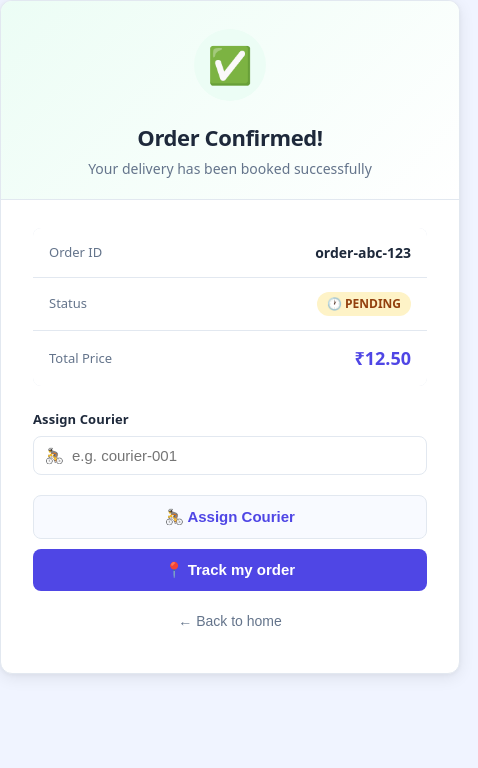
it: OrderConfirmation › assigns courier and shows success message
Step 1. Type "courier-001" into the field named "Courier ID" → point(230, 455), box [33, 436, 427, 474]
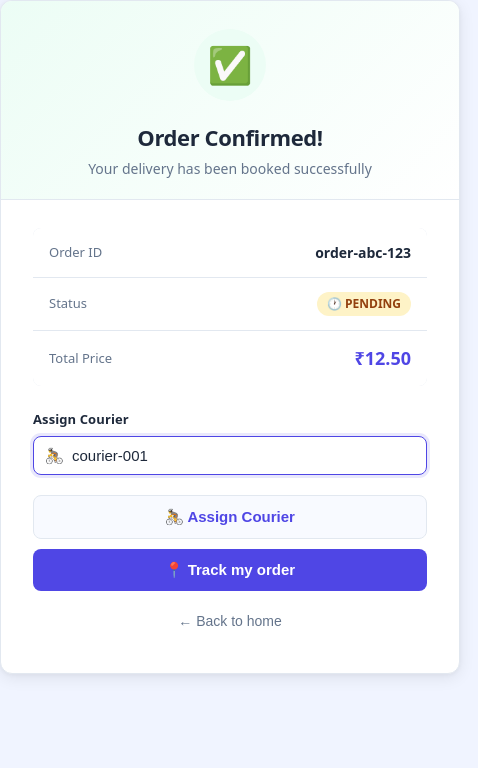
Step 2. Click the button "🚴 Assign Courier" → point(230, 516), box [33, 494, 427, 538]
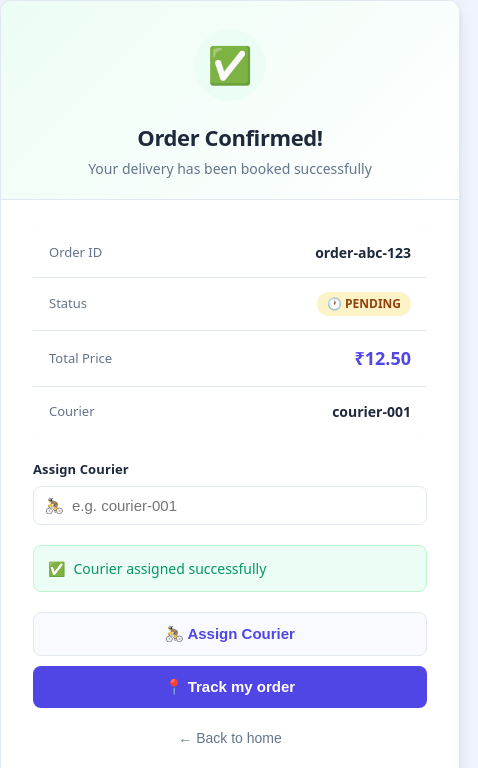
Expected: the message shows "Courier assigned successfully", [74, 558, 266, 578]
Expected: the text with test id "courier-id" reads "courier-001", [332, 402, 411, 421]
